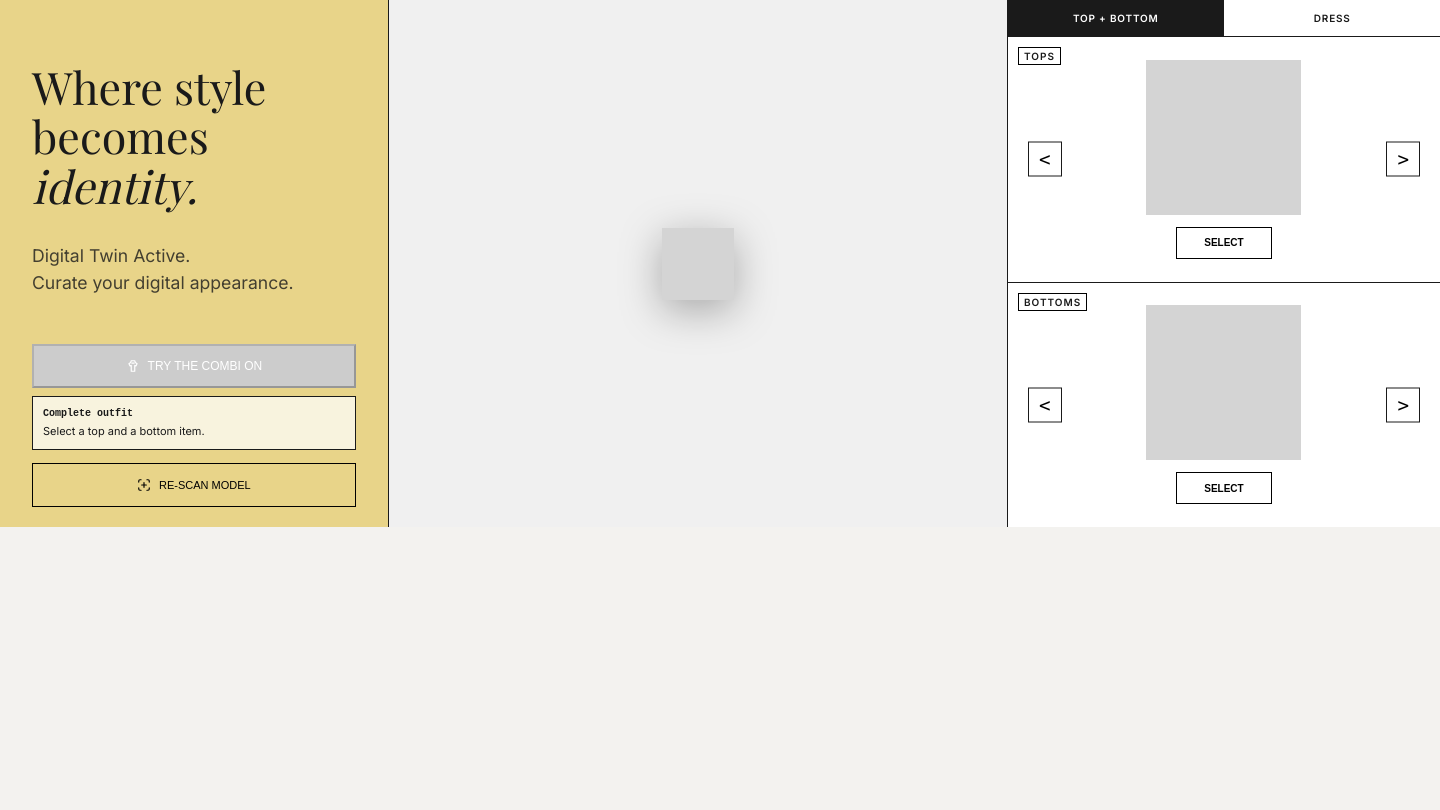
Test: Wardrobe states › archives a generated look and confirms it in the dialog
The width and height of the screenshot is (1440, 810).
Step 1. Click the button "SELECT" below "TOPS" → coordinates (1224, 243), box [1176,227,1272,259]
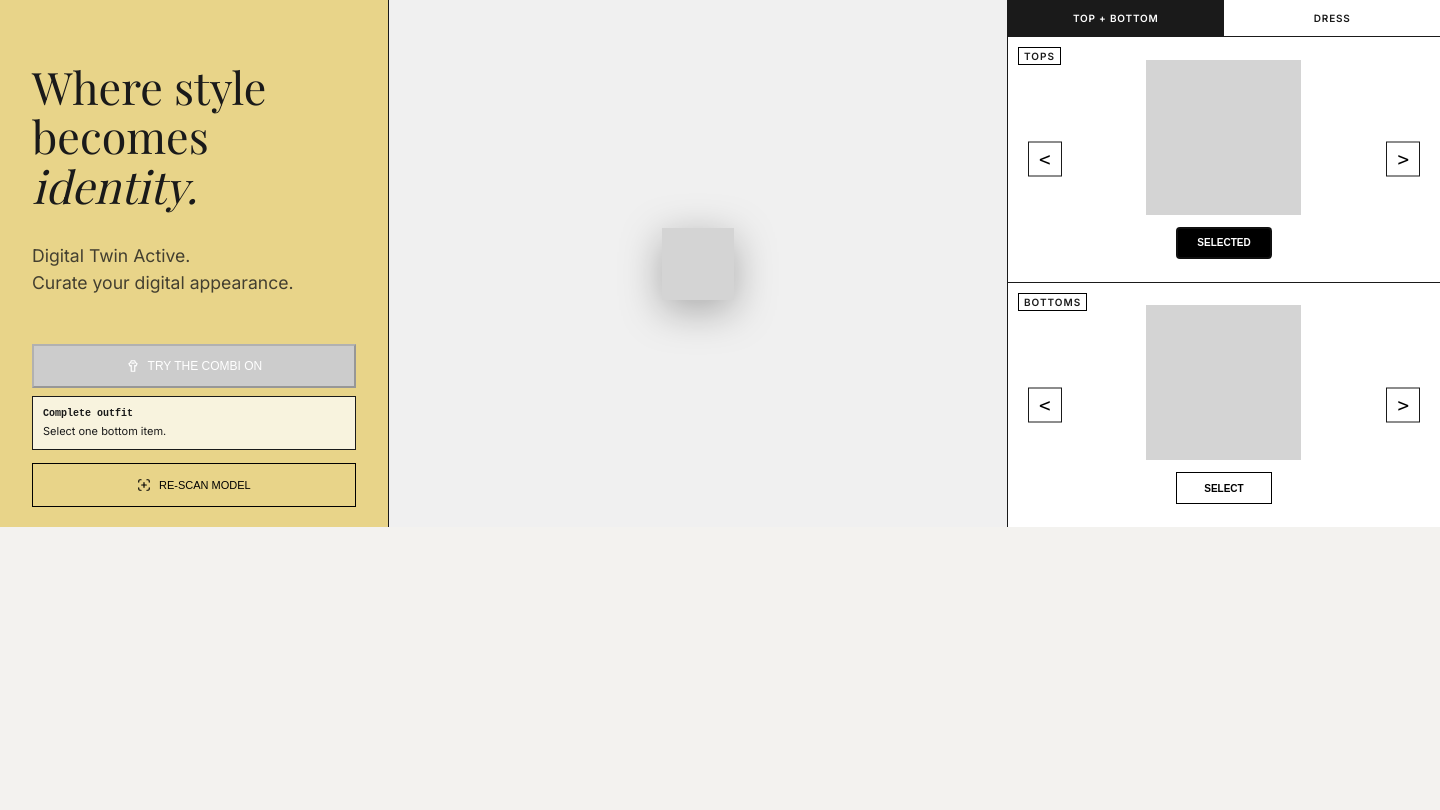
Step 2. Click the button "SELECT" → coordinates (1224, 488), box [1176,472,1272,504]
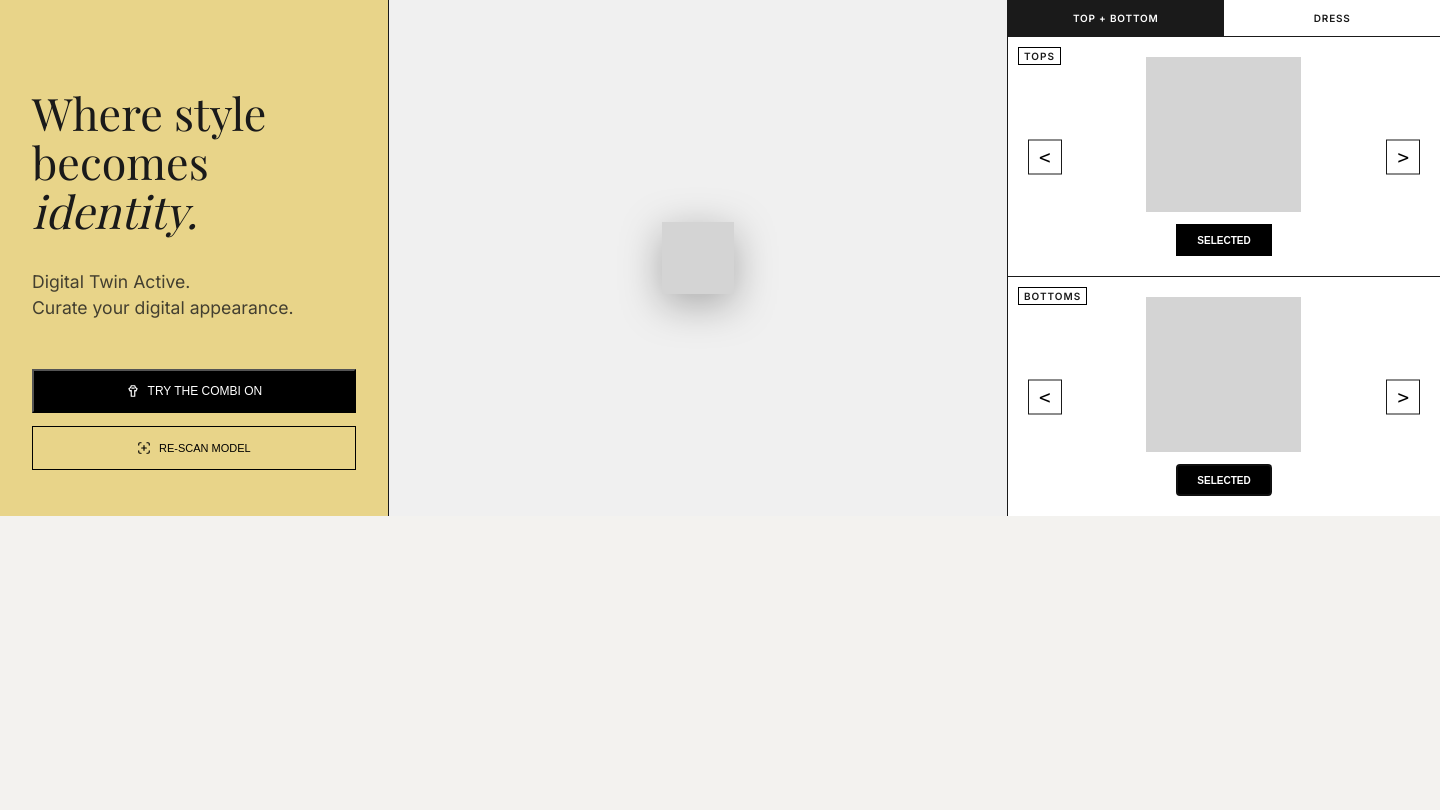
Step 3. Click the button "TRY THE COMBI ON" → coordinates (194, 391), box [32,369,356,413]
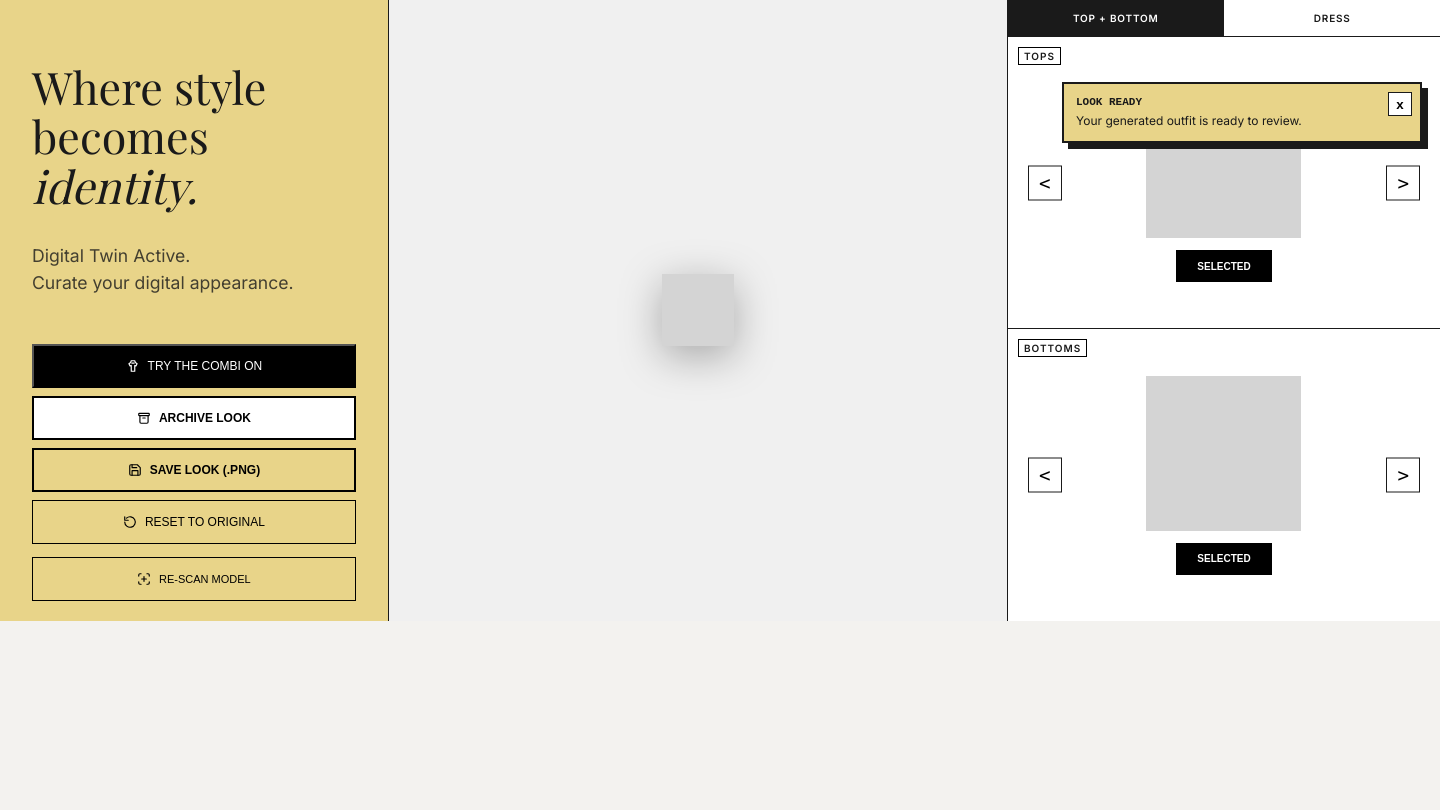
Expected: the text "LOOK READY" is shown, [1076,96,1142,108]
Step 4. Click the button "ARCHIVE LOOK" → coordinates (194, 418), box [32,396,356,440]
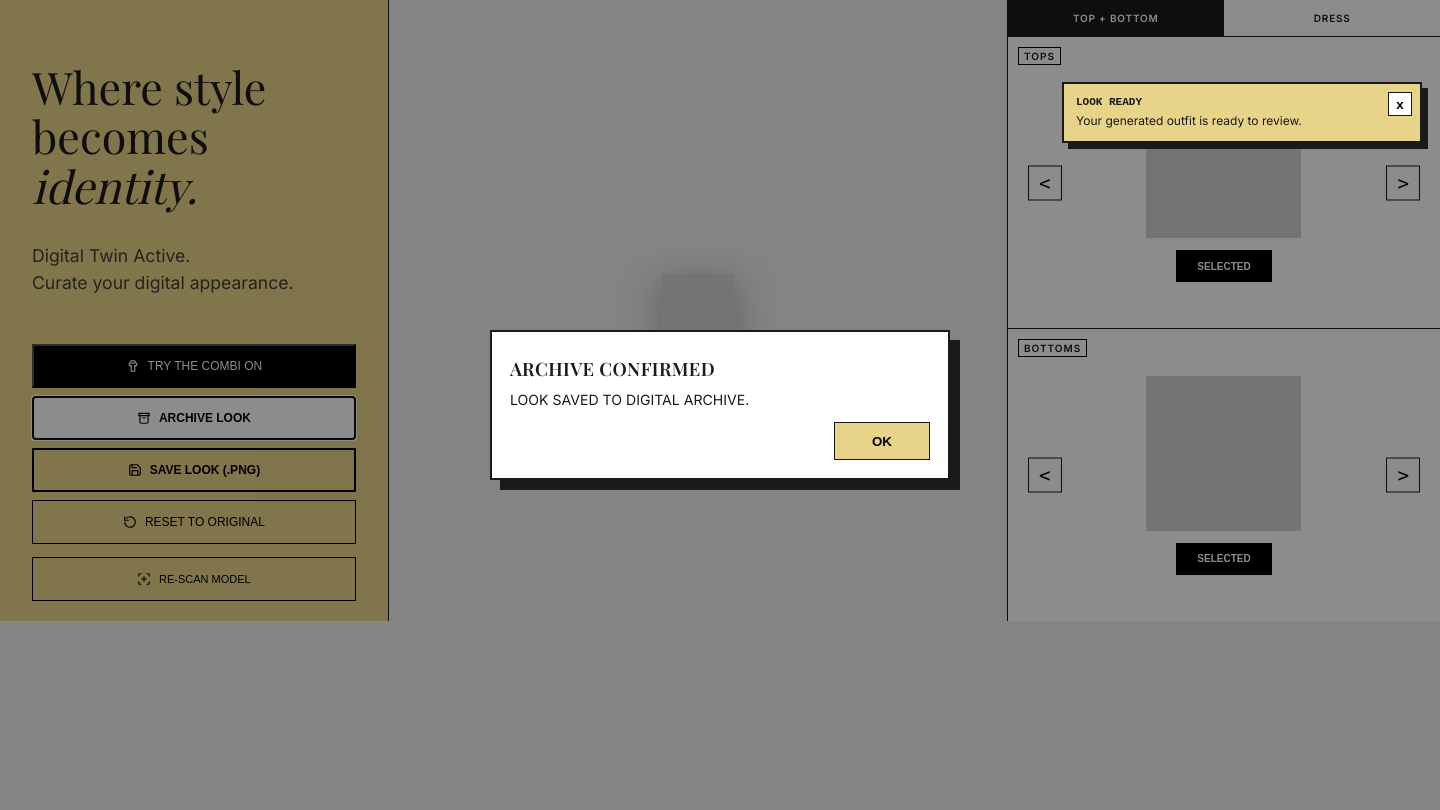
Expected: the dialog shows "ARCHIVE CONFIRMED", [510,356,715,381]
Step 5. Click the button "OK" → coordinates (882, 441), box [834,422,930,460]
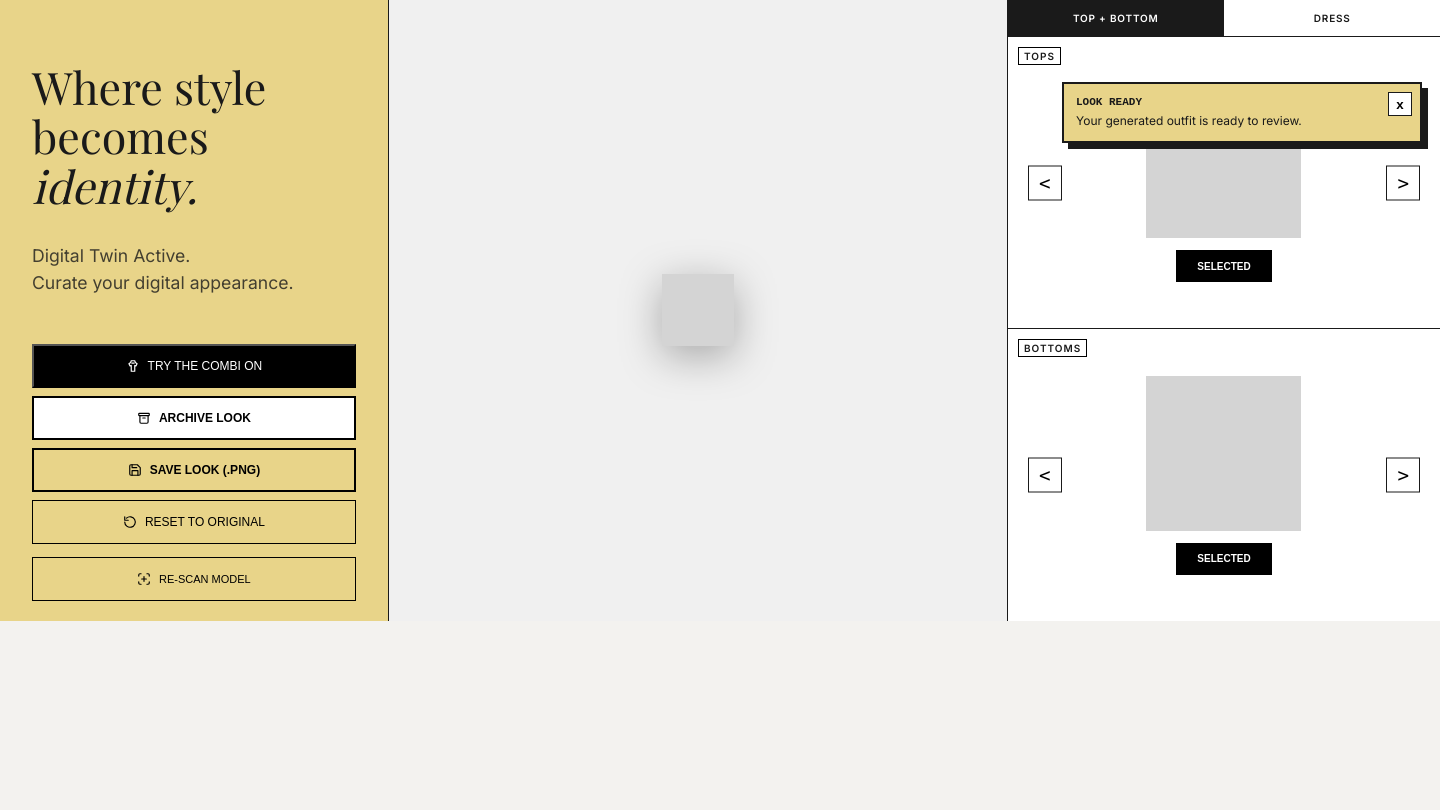
Expected: the dialog is gone
